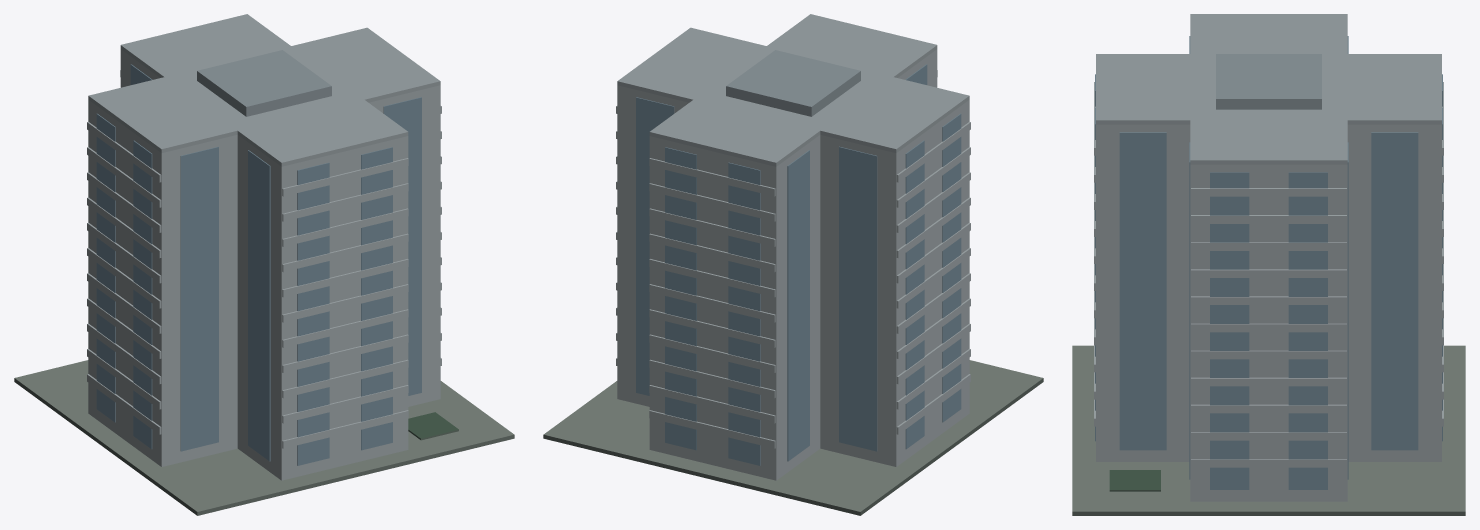
The model's file is residential-point.glb.
3 renders of one model, left to right at view 1: azimuth 30°, elevation 25°; view 2: azimuth 150°, elevation 25°; view 3: azimuth 270°, elevation 25°, orthographic. The views are drawn at different scales.
Visible parts, largest first — view 1: residential-point; view 2: residential-point; view 3: residential-point.
Boxes of the visible parts, x1,y1,x2,y2 form: residential-point: [14, 14, 514, 515]; residential-point: [543, 14, 1043, 515]; residential-point: [1072, 14, 1465, 515].
Bounding box in the file's own units: 1 × 1 × 1.
